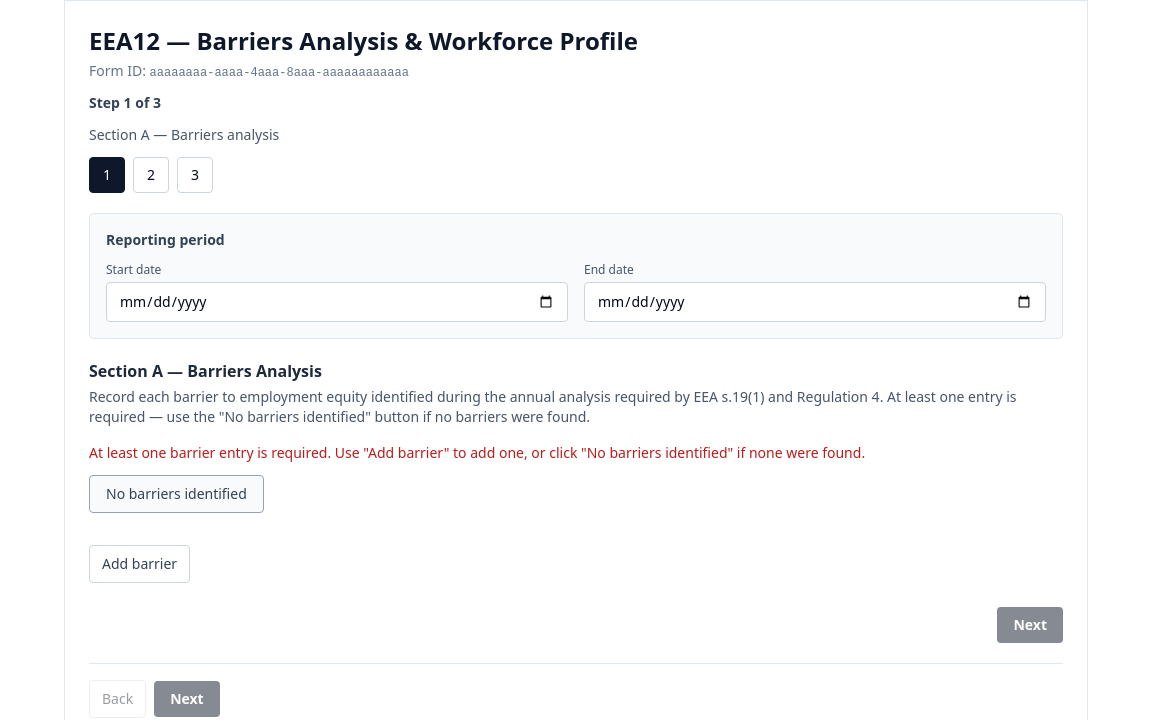
Test: EEA12Form — Section A barriers › inserts a nil-return entry when the nil-return button is clicked on an empty list
Click the button with test id "eea12-nil-return-btn": click(176, 494) [89,475,264,513]
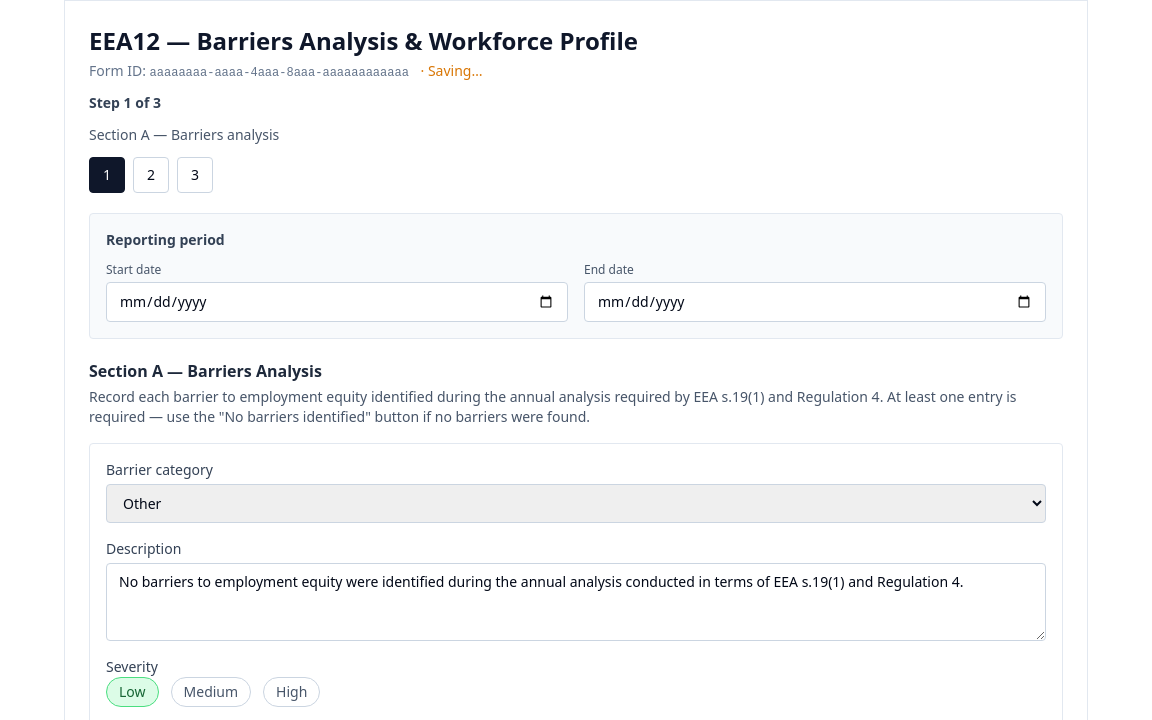
Expected: the button with test id "eea12-nil-return-btn" is gone
